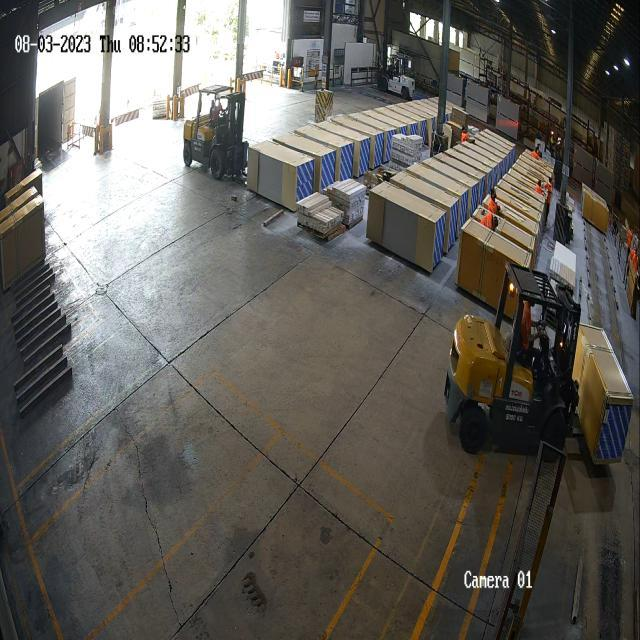driver: (518, 290, 544, 378)
forklift: (443, 260, 583, 466), (180, 80, 250, 184), (378, 51, 416, 100)
person: (482, 212, 499, 232), (489, 186, 498, 213)
